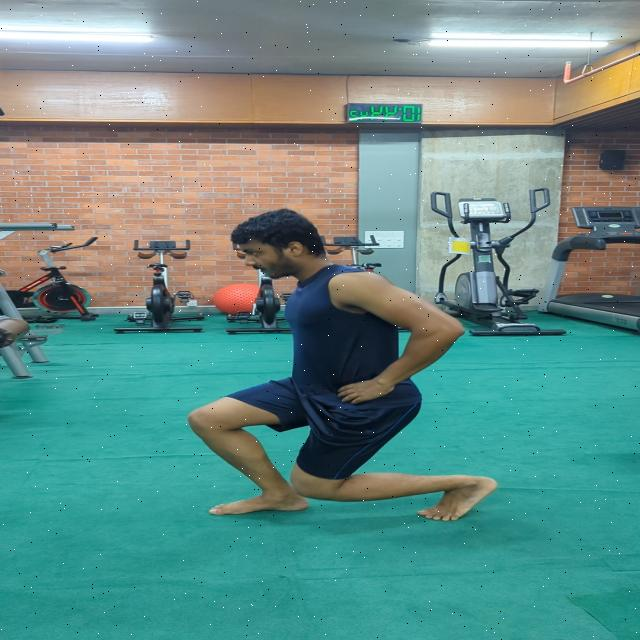Normal_Lunges: (173, 204, 502, 530)
